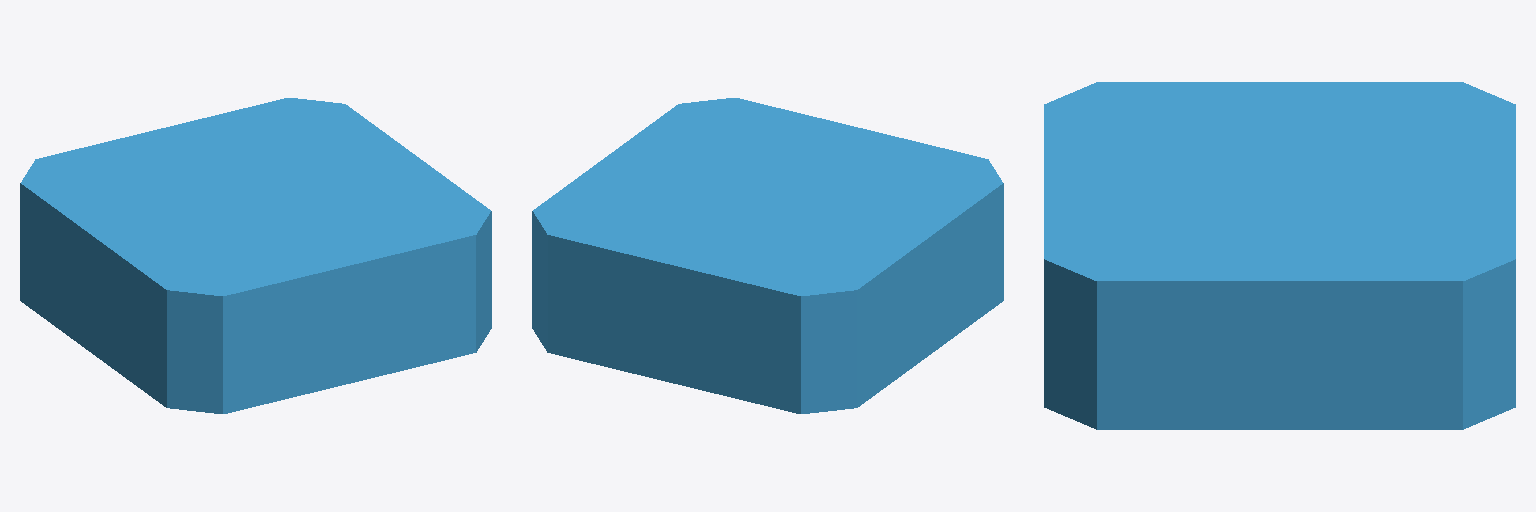
robot.urdf — turtlebot3_waffle:
<?xml version="1.0" ?>
<robot name="turtlebot3_waffle" xmlns:xacro="http://ros.org/wiki/xacro">
  <!-- <xacro:include filename="$(find turtlebot3_description)/urdf/common_properties.urdf"/>

  <xacro:property name="r200_cam_rgb_px" value="0.005"/>
  <xacro:property name="r200_cam_rgb_py" value="0.018"/>
  <xacro:property name="r200_cam_rgb_pz" value="0.013"/>
  <xacro:property name="r200_cam_depth_offset" value="0.01"/> -->

  <!-- Init colour -->
  <material name="black">
      <color rgba="0.0 0.0 0.0 1.0"/>
  </material>

  <material name="dark">
    <color rgba="0.3 0.3 0.3 1.0"/>
  </material>

  <material name="light_black">
    <color rgba="0.4 0.4 0.4 1.0"/>
  </material>

  <material name="blue">
    <color rgba="0.0 0.0 0.8 1.0"/>
  </material>

  <material name="green">
    <color rgba="0.0 0.8 0.0 1.0"/>
  </material>

  <material name="grey">
    <color rgba="0.5 0.5 0.5 1.0"/>
  </material>

  <material name="orange">
    <color rgba="1.0 0.4235 0.0392 1.0"/>
  </material>

  <material name="brown">
    <color rgba="0.8706 0.8118 0.7647 1.0"/>
  </material>

  <material name="red">
    <color rgba="0.8 0.0 0.0 1.0"/>
  </material>

  <material name="white">
    <color rgba="1.0 1.0 1.0 1.0"/>
  </material>

  <link name="base_footprint"/>

  <joint name="base_joint" type="fixed">
    <parent link="base_footprint"/>
    <child link="base_link" />
    <origin xyz="0 0 0.010" rpy="0 0 0"/>
  </joint>

  <link name="base_link">
    <visual>
      <origin xyz="-0.064 0 0.0" rpy="0 0 0"/>
      <geometry>
        <mesh filename="package://turtlebot3_gazebo/models/turtlebot3_common/meshes/waffle_base.dae" scale="0.001 0.001 0.001"/>
      </geometry>
      <!-- <material name="light_black"/> -->
      <!-- <material>
        <ambient>1.0 0.55 0.0 1.0</ambient>
        <diffuse>1.0 0.55 0.0 1.0</diffuse>
        <specular>0.2 0.2 0.2 1.0</specular>
        <emissive>0.0 0.0 0.0 1.0</emissive>
      </material> -->
    </visual>

    <collision>
      <origin xyz="-0.064 0 0.047" rpy="0 0 0"/>
      <geometry>
        <box size="0.266 0.266 0.094"/>
      </geometry>
    </collision>

    <inertial>
      <origin xyz="0 0 0" rpy="0 0 0"/>
      <mass value="1.3729096e+00"/>
      <inertia ixx="8.7002718e-03" ixy="-4.7576583e-05" ixz="1.1160499e-04"
               iyy="8.6195418e-03" iyz="-3.5422299e-06"
               izz="1.4612727e-02" />
    </inertial>
  </link>


  <joint name="wheel_left_joint" type="continuous">
    <parent link="base_link"/>
    <child link="wheel_left_link"/>
    <origin xyz="0.0 0.144 0.023" rpy="-1.57 0 0"/>
    <axis xyz="0 0 1"/>
  </joint>

  <link name="wheel_left_link">
    <visual>
      <origin xyz="0 0 0" rpy="1.57 0 0"/>
      <geometry>
        <mesh filename="package://turtlebot3_gazebo/models/turtlebot3_common/meshes/tire.dae" scale="0.001 0.001 0.001"/>
      </geometry>
      <material name="dark"/>
    </visual>

    <collision>
      <origin xyz="0 0 0" rpy="0 0 0"/>
      <geometry>
        <cylinder length="0.018" radius="0.033"/>
      </geometry>
    </collision>

    <inertial>
      <origin xyz="0 0 0" />
      <mass value="2.8498940e-02" />
      <inertia ixx="1.1175580e-05" ixy="-4.2369783e-11" ixz="-5.9381719e-09"
               iyy="1.1192413e-05" iyz="-1.4400107e-11"
               izz="2.0712558e-05" />
      </inertial>
  </link>

  <joint name="wheel_right_joint" type="continuous">
    <parent link="base_link"/>
    <child link="wheel_right_link"/>
    <origin xyz="0.0 -0.144 0.023" rpy="-1.57 0 0"/>
    <axis xyz="0 0 1"/>
  </joint>

  <link name="wheel_right_link">
    <visual>
      <origin xyz="0 0 0" rpy="1.57 0 0"/>
      <geometry>
        <mesh filename="package://turtlebot3_gazebo/models/turtlebot3_common/meshes/tire.dae" scale="0.001 0.001 0.001"/>
      </geometry>
      <material name="dark"/>
    </visual>

    <collision>
      <origin xyz="0 0 0" rpy="0 0 0"/>
      <geometry>
        <cylinder length="0.018" radius="0.033"/>
      </geometry>
    </collision>

    <inertial>
      <origin xyz="0 0 0" />
      <mass value="2.8498940e-02" />
      <inertia ixx="1.1175580e-05" ixy="-4.2369783e-11" ixz="-5.9381719e-09"
               iyy="1.1192413e-05" iyz="-1.4400107e-11"
               izz="2.0712558e-05" />
      </inertial>
  </link>

  <joint name="caster_back_right_joint" type="fixed">
    <parent link="base_link"/>
    <child link="caster_back_right_link"/>
    <origin xyz="-0.177 -0.064 -0.004" rpy="-1.57 0 0"/>
  </joint>

  <link name="caster_back_right_link">
    <collision>
      <origin xyz="0 0.001 0" rpy="0 0 0"/>
      <geometry>
        <box size="0.030 0.009 0.020"/>
      </geometry>
    </collision>

    <inertial>
      <origin xyz="0 0 0" />
      <mass value="0.005" />
      <inertia ixx="0.001" ixy="0.0" ixz="0.0"
               iyy="0.001" iyz="0.0"
               izz="0.001" />
    </inertial>
  </link>

  <joint name="caster_back_left_joint" type="fixed">
    <parent link="base_link"/>
    <child link="caster_back_left_link"/>
    <origin xyz="-0.177 0.064 -0.004" rpy="-1.57 0 0"/>
  </joint>

  <link name="caster_back_left_link">
    <collision>
      <origin xyz="0 0.001 0" rpy="0 0 0"/>
      <geometry>
        <box size="0.030 0.009 0.020"/>
      </geometry>
    </collision>

    <inertial>
      <origin xyz="0 0 0" />
      <mass value="0.005" />
      <inertia ixx="0.001" ixy="0.0" ixz="0.0"
               iyy="0.001" iyz="0.0"
               izz="0.001" />
    </inertial>
  </link>

  <joint name="imu_joint" type="fixed">
    <parent link="base_link"/>
    <child link="imu_link"/>
    <origin xyz="0.0 0 0.068" rpy="0 0 0"/>
  </joint>

  <link name="imu_link"/>

  <joint name="scan_joint" type="fixed">
    <parent link="base_link"/>
    <child link="base_scan"/>
    <origin xyz="-0.064 0 0.122" rpy="0 0 0"/>
  </joint>

  <link name="base_scan">
    <visual>
      <origin xyz="0 0 0" rpy="0 0 0"/>
      <geometry>
        <mesh filename="package://turtlebot3_gazebo/models/turtlebot3_common/meshes/lds.dae" scale="0.001 0.001 0.001"/>
      </geometry>
      <material name="dark"/>
    </visual>

    <collision>
      <origin xyz="0.015 0 -0.0065" rpy="0 0 0"/>
      <geometry>
        <cylinder length="0.0315" radius="0.055"/>
      </geometry>
    </collision>

    <inertial>
      <mass value="0.114" />
      <origin xyz="0 0 0" />
      <inertia ixx="0.001" ixy="0.0" ixz="0.0"
               iyy="0.001" iyz="0.0"
               izz="0.001" />
    </inertial>
  </link>

  <joint name="camera_joint" type="fixed">
    <origin xyz="0.064 -0.065 0.094" rpy="0 0 0"/>
    <parent link="base_link"/>
    <child link="camera_link"/>
  </joint>

  <link name="camera_link">
    <visual>
     <origin xyz="0 0 0" rpy="1.57 0 1.57"/>
      <geometry>
       <mesh filename="package://turtlebot3_gazebo/models/turtlebot3_common/meshes/r200.dae" />
      </geometry>
    </visual>
    <collision>
      <origin xyz="0.003 0.065 0.007" rpy="0 0 0"/>
      <geometry>
        <box size="0.012 0.132 0.020"/>
      </geometry>
    </collision>

    <!-- This inertial field needs doesn't contain reliable data!! -->
<!--   <inertial>
      <mass value="0.564" />
      <origin xyz="0 0 0" />
      <inertia ixx="0.003881243" ixy="0.0" ixz="0.0"
               iyy="0.000498940" iyz="0.0"
               izz="0.003879257" />
    </inertial>-->
  </link>

  <joint name="camera_rgb_joint" type="fixed">
    <origin xyz="0.005 0.018 0.013" rpy="0 0 0"/>
    <!-- <origin xyz="${r200_cam_rgb_px} ${r200_cam_rgb_py} ${r200_cam_rgb_pz}" rpy="0 0 0"/> -->
    <parent link="camera_link"/>
    <child link="camera_rgb_frame"/>
  </joint>
  <link name="camera_rgb_frame"/>

  <joint name="camera_rgb_optical_joint" type="fixed">
    <origin xyz="0 0 0" rpy="-1.57 0 -1.57"/>
    <parent link="camera_rgb_frame"/>
    <child link="camera_rgb_optical_frame"/>
  </joint>
  <link name="camera_rgb_optical_frame"/>

  <joint name="camera_depth_joint" type="fixed">
    <origin xyz="0.005 0.028 0.013" rpy="0 0 0"/>
    <!-- <origin xyz="${r200_cam_rgb_px} ${r200_cam_rgb_py + r200_cam_depth_offset} ${r200_cam_rgb_pz}" rpy="0 0 0"/> -->
    <parent link="camera_link"/>
    <child link="camera_depth_frame"/>
  </joint>
  <link name="camera_depth_frame"/>

  <joint name="camera_depth_optical_joint" type="fixed">
    <origin xyz="0 0 0" rpy="-1.57 0 -1.57"/>
    <parent link="camera_depth_frame"/>
    <child link="camera_depth_optical_frame"/>
  </joint>
  <link name="camera_depth_optical_frame"/>

</robot>

--- Render facts (derived) ---
3 views of the same robot in one strip: view 1: azimuth 30°, elevation 25°; view 2: azimuth 150°, elevation 25°; view 3: azimuth 270°, elevation 25° (orthographic).
Model turtlebot3_waffle with 13 links and 12 joints (2 continuous, 10 fixed), rooted at base_footprint, posed every joint at zero.
Visible links, largest first — view 1: base_link; view 2: base_link; view 3: base_link.
Link boxes in pixels (left/top/right/bottom): base_link: left=20, top=98, right=491, bottom=413; base_link: left=532, top=98, right=1003, bottom=413; base_link: left=1044, top=82, right=1515, bottom=429.
Bounding box of the posed robot: 0.265 × 0.265 × 0.0931 m (x, y, z).
1 mesh visuals loaded from 4 distinct referenced files (1 Collada DAE); not drawn: 4 (reference not matched to a file when rendering).